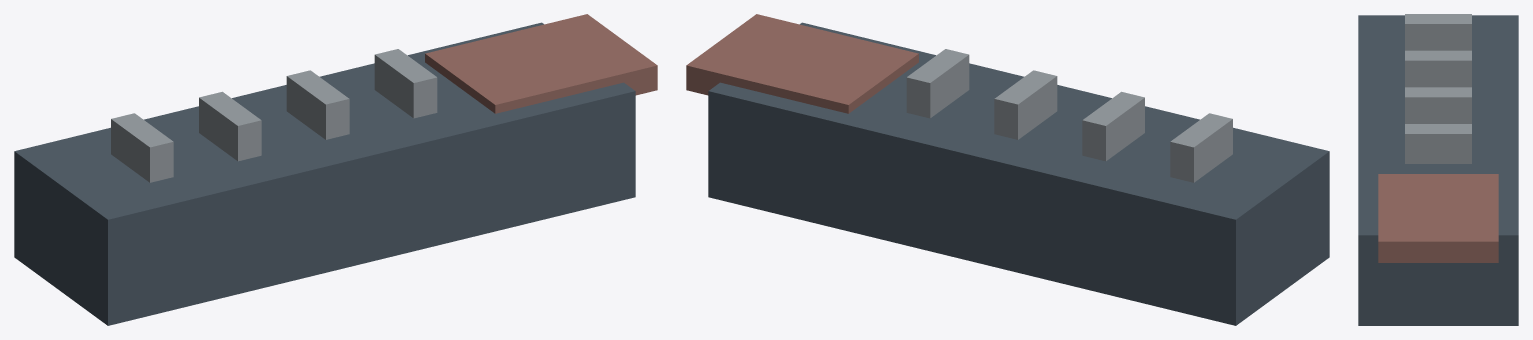
Rendered from tecnologia_breaker.glb.
The picture shows the model from 3 angles, left to right: view 1: azimuth 30°, elevation 25°; view 2: azimuth 150°, elevation 25°; view 3: azimuth 270°, elevation 25°; orthographic projection. The views are drawn at different scales.
Size of the model in its own units: 0.83 by 0.2 by 0.24.
